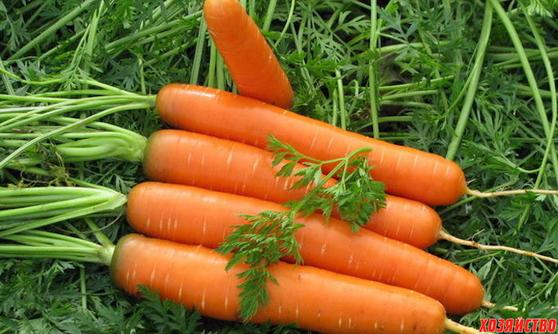carrot: (133, 73, 485, 200)
